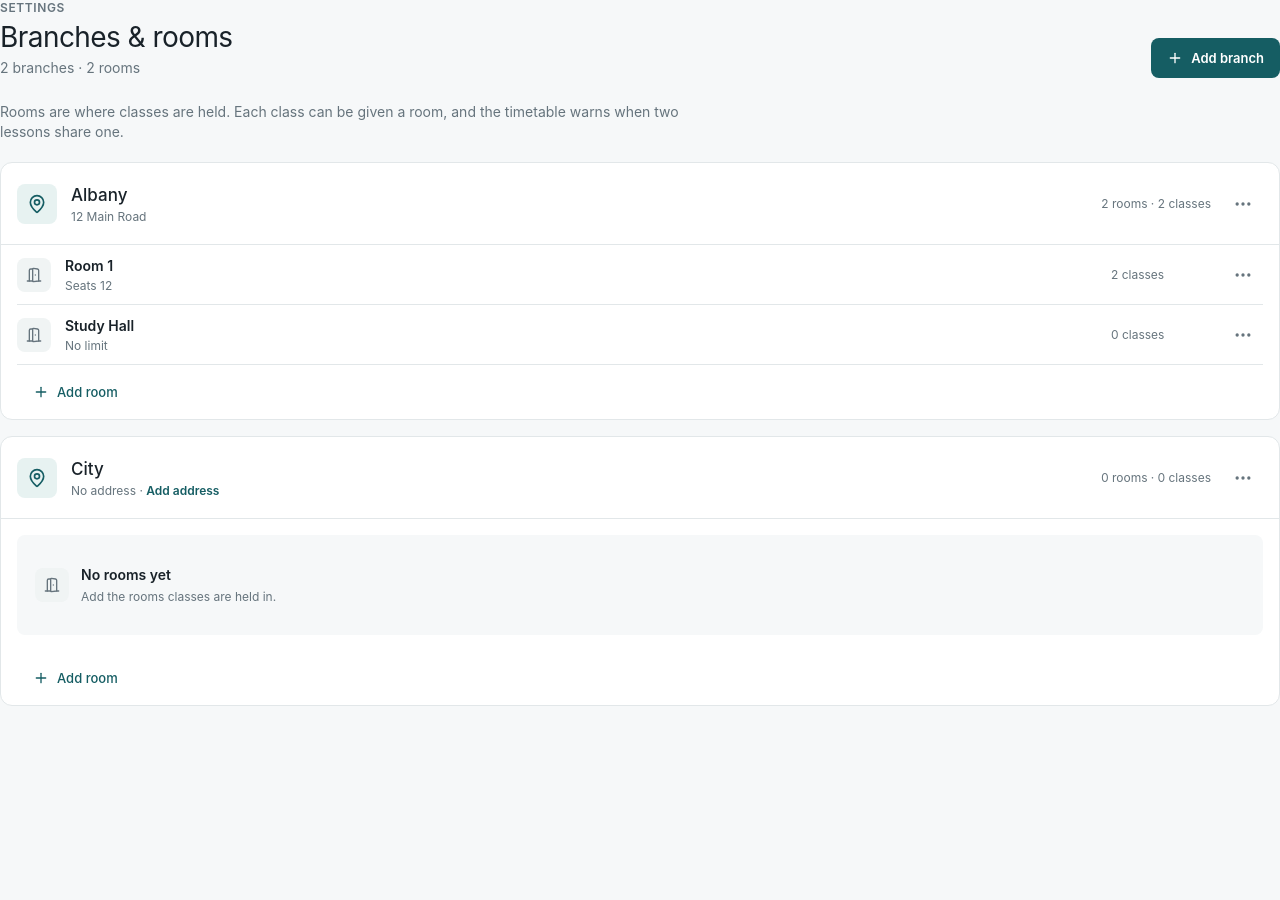
Test case: deleting › deletes a branch nothing uses
Click the button named "Actions for City": [1243, 478] box [1223,458,1263,498]
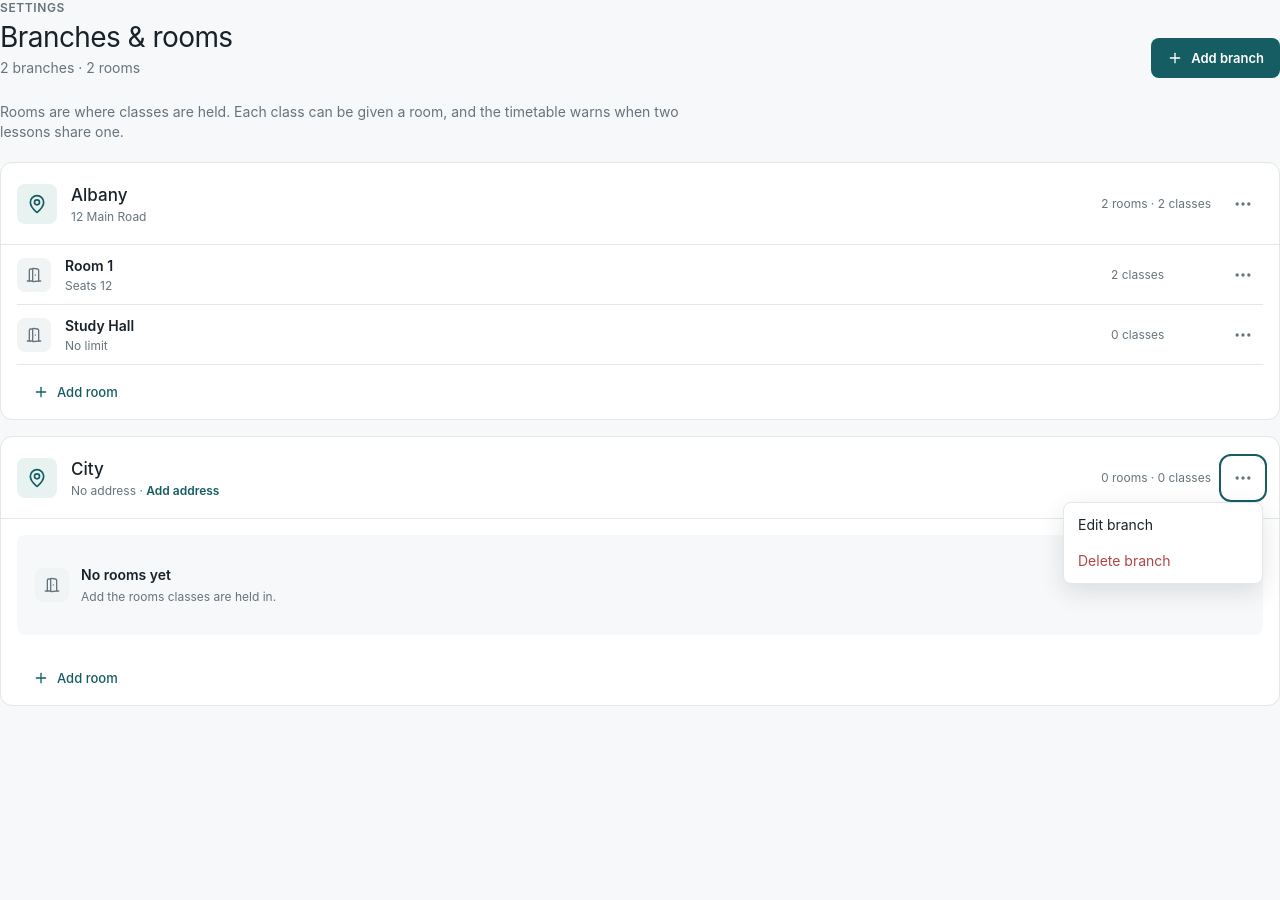
Click the menu item "Delete branch": [1163, 560] box [1068,542,1258,578]
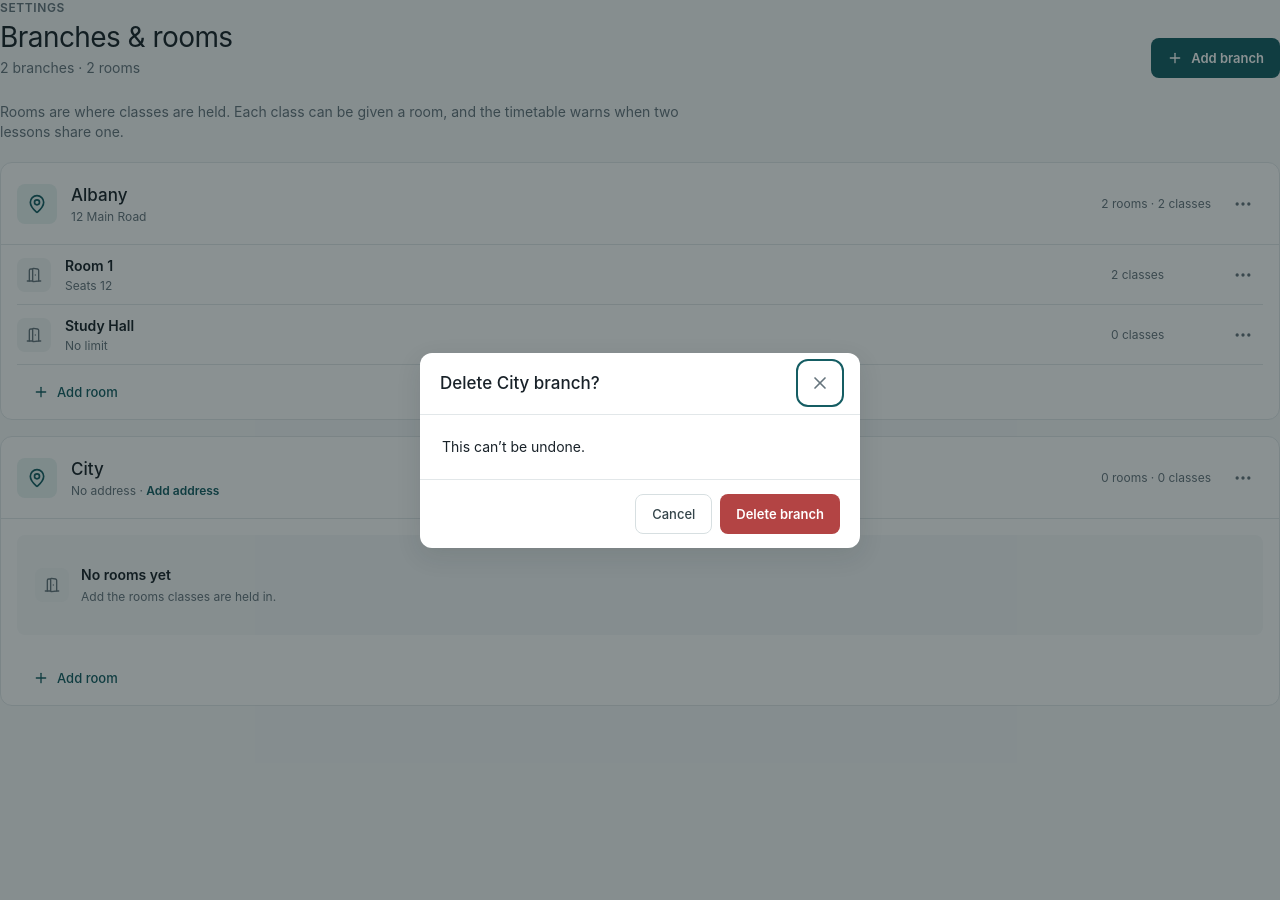
Expected: the button "Delete branch" is enabled
Click the button "Delete branch": [780, 514] box [720,494,840,534]
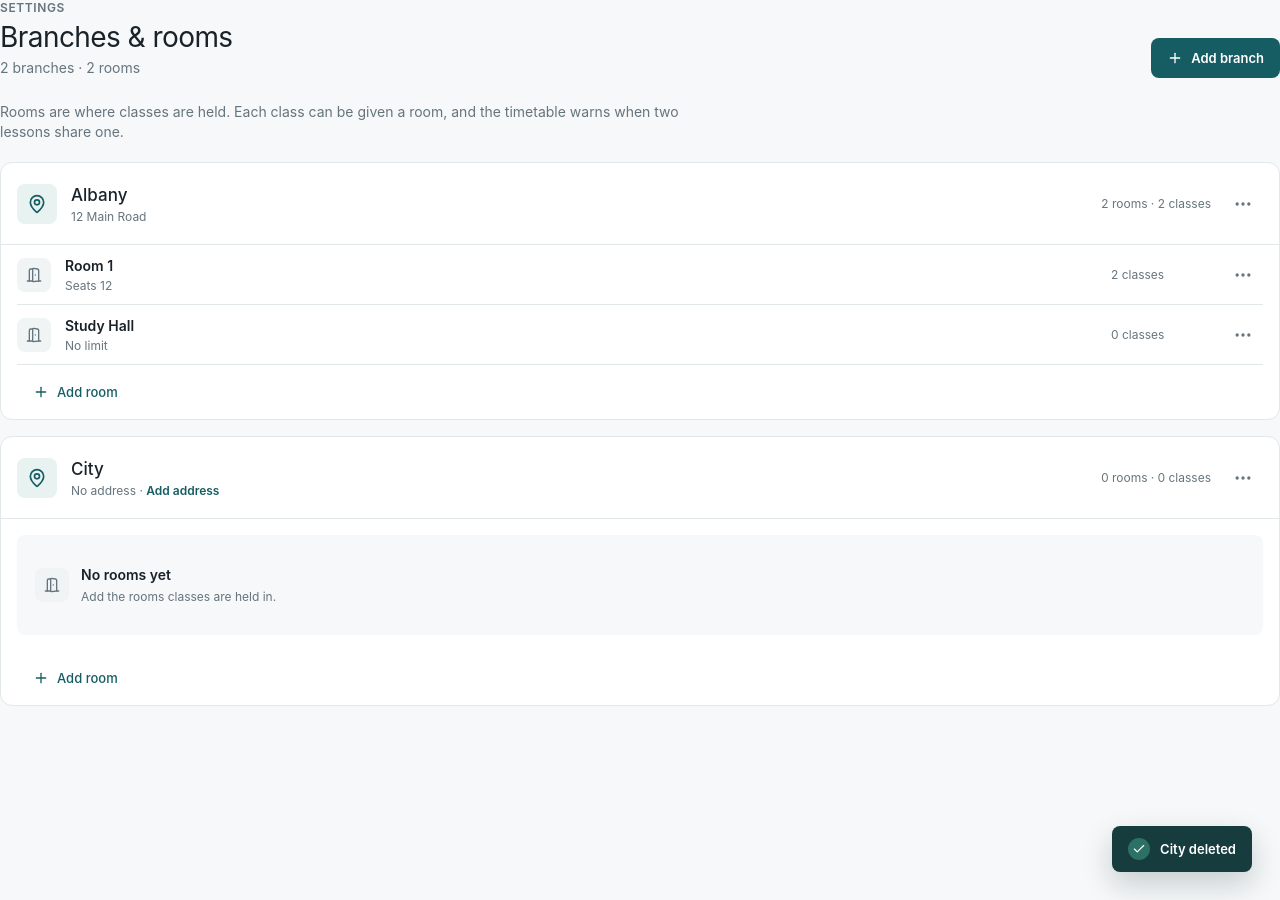
Expected: the text "City deleted" is shown, [1112,826,1252,872]
